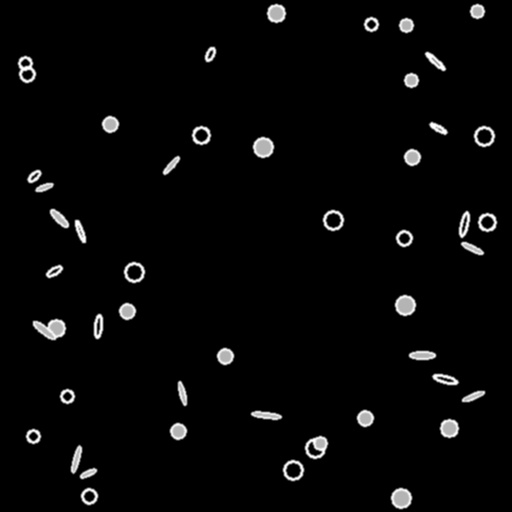pseudomonas: (32, 319, 56, 341), (424, 51, 446, 71), (49, 208, 69, 228), (461, 389, 485, 403), (70, 446, 82, 472), (458, 211, 470, 237), (432, 373, 458, 385), (461, 241, 483, 255), (74, 219, 86, 243), (163, 156, 179, 174), (428, 121, 448, 135), (26, 168, 42, 184), (45, 264, 63, 278), (251, 411, 281, 419), (177, 382, 187, 404), (94, 314, 102, 338), (204, 46, 216, 62), (80, 467, 96, 479), (35, 182, 53, 192), (410, 352, 434, 358)
synechocystis: (475, 127, 493, 145), (324, 211, 342, 229), (284, 461, 302, 479), (306, 439, 324, 457), (396, 296, 414, 314), (392, 489, 410, 507), (125, 263, 143, 281), (254, 138, 272, 156), (479, 214, 495, 230), (268, 5, 284, 21), (193, 127, 209, 143), (48, 320, 64, 336), (441, 420, 457, 436), (120, 304, 134, 318), (103, 117, 117, 131), (20, 67, 34, 81), (218, 349, 232, 363), (82, 489, 96, 503), (358, 411, 372, 425), (171, 424, 185, 438), (397, 231, 411, 245), (405, 150, 419, 164), (365, 18, 377, 30), (61, 390, 73, 402), (405, 74, 417, 86), (27, 430, 39, 442), (471, 5, 483, 17), (314, 437, 326, 449), (19, 57, 31, 69), (400, 19, 412, 31)
